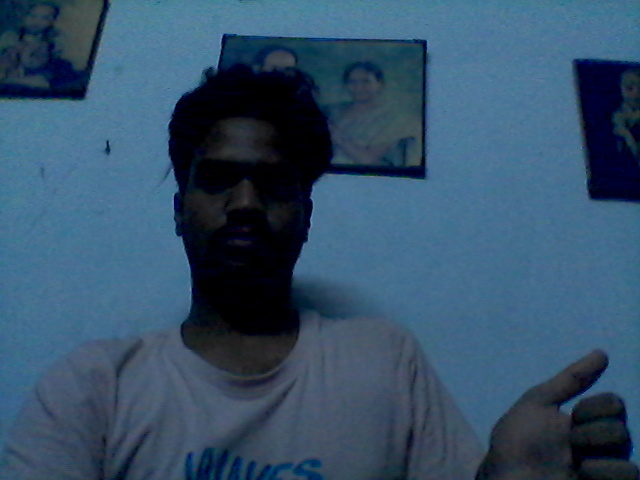Fine: (472, 337, 637, 480)
